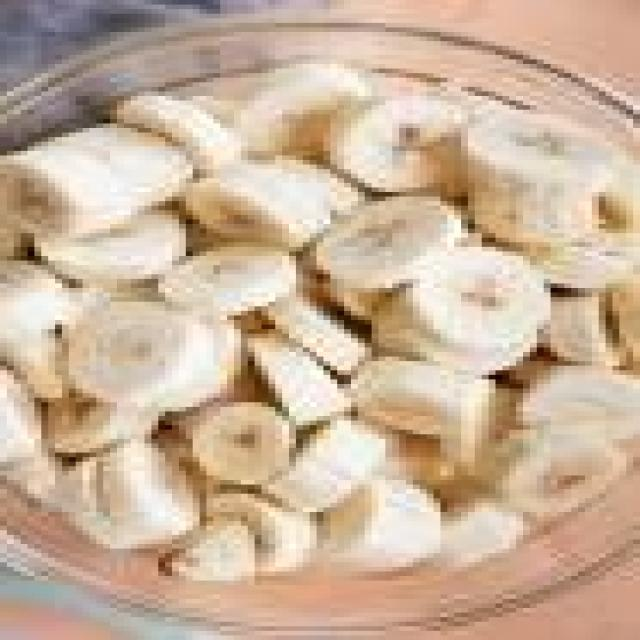banana: (0, 124, 192, 237), (462, 110, 612, 246), (379, 247, 550, 365), (69, 302, 240, 411), (351, 357, 495, 466), (62, 439, 199, 548), (331, 92, 467, 191), (186, 160, 330, 251), (234, 60, 371, 155), (317, 197, 461, 287), (372, 298, 536, 374), (496, 426, 626, 516), (262, 416, 385, 511), (35, 211, 185, 283), (324, 480, 440, 571), (0, 261, 75, 397), (117, 92, 240, 173), (159, 243, 295, 315), (248, 334, 350, 425), (207, 490, 316, 575), (262, 293, 371, 374), (186, 403, 295, 484), (517, 366, 639, 438), (379, 430, 481, 507), (42, 398, 158, 457), (524, 234, 639, 292), (166, 517, 261, 585), (0, 261, 75, 347), (441, 499, 529, 566), (276, 156, 364, 219), (379, 430, 461, 493), (544, 298, 619, 365), (0, 330, 68, 402), (420, 334, 536, 374), (62, 284, 165, 329), (0, 371, 41, 466), (0, 448, 61, 507), (599, 151, 639, 233), (324, 279, 385, 324), (613, 275, 639, 365), (503, 352, 557, 393), (186, 92, 240, 127), (489, 384, 523, 438), (0, 220, 27, 260)
